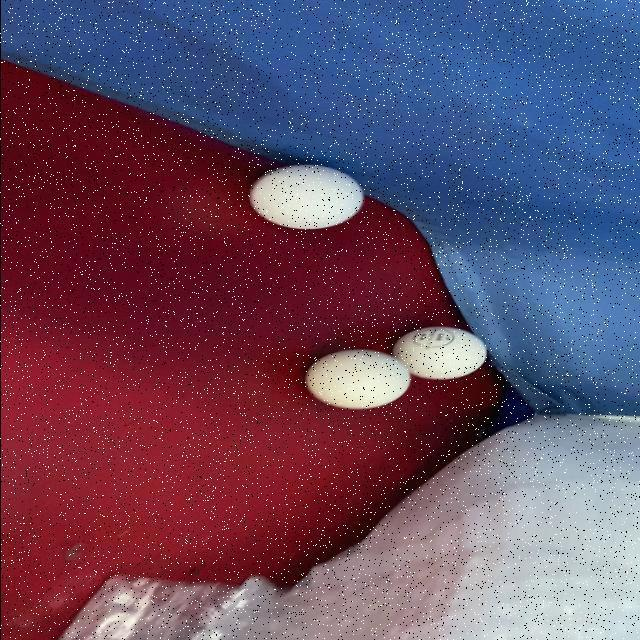ping-pong-ball: (245, 162, 369, 230), (302, 347, 412, 412), (392, 324, 490, 382)
